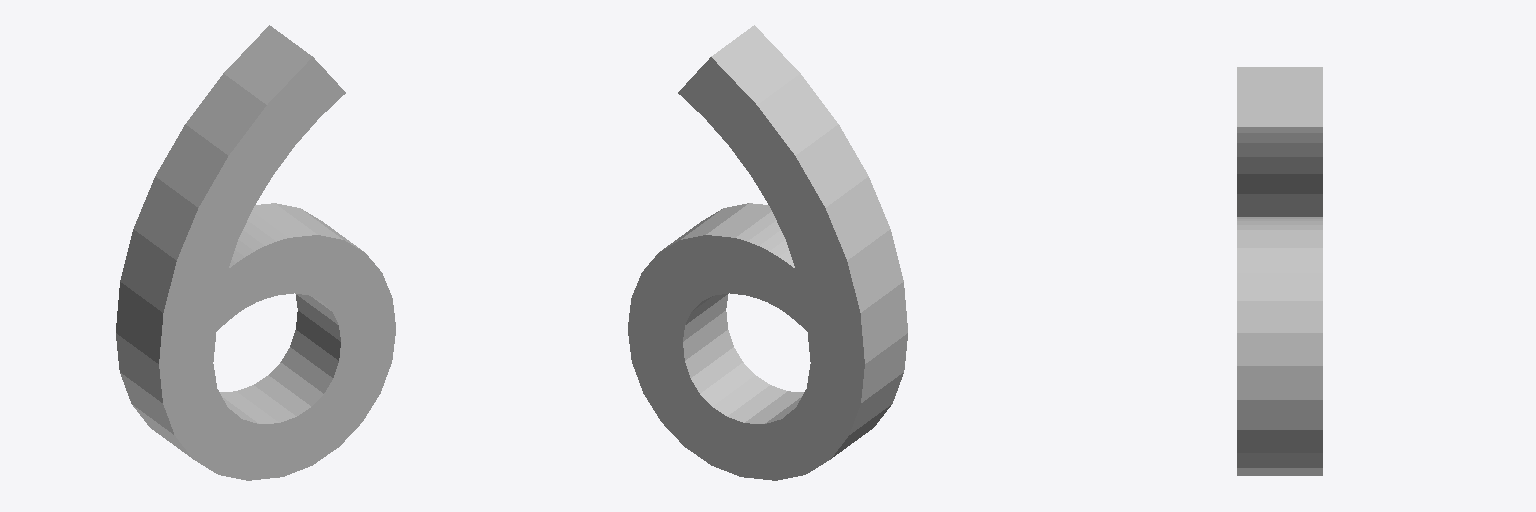
3 renders of one model, left to right at view 1: azimuth 30°, elevation 25°; view 2: azimuth 150°, elevation 25°; view 3: azimuth 270°, elevation 25°, orthographic.
Visible parts, largest first — view 1: テキスト.006; view 2: テキスト.006; view 3: テキスト.006.
Part boxes in pixels (left/top/right/bottom): テキスト.006: left=116, top=25, right=395, bottom=480; テキスト.006: left=628, top=25, right=907, bottom=480; テキスト.006: left=1237, top=67, right=1322, bottom=475.
Size of the model in its own units: 1.26 by 2.1 by 0.4.